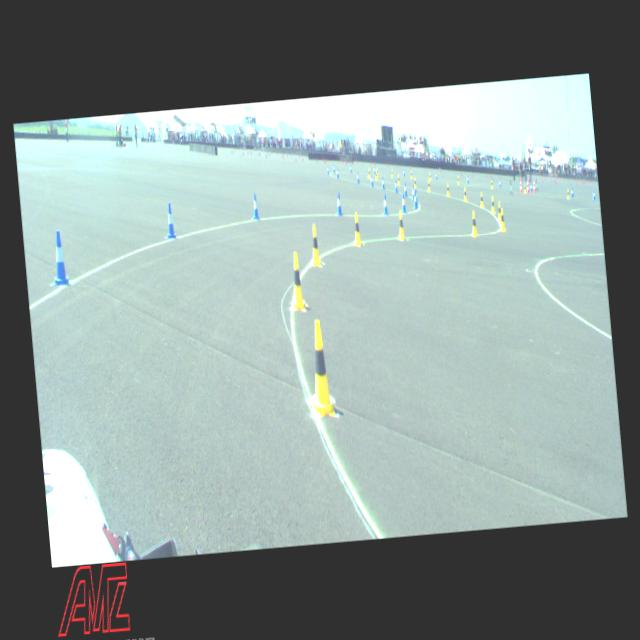blue_cone: (50, 230, 69, 286), (164, 202, 176, 238), (250, 192, 260, 219), (334, 191, 342, 216), (382, 193, 388, 214), (400, 193, 406, 213), (412, 191, 418, 209), (414, 188, 418, 205), (393, 179, 398, 192), (410, 184, 414, 200), (403, 181, 407, 196), (369, 173, 373, 186), (381, 176, 385, 189), (570, 187, 574, 197), (348, 164, 352, 172), (434, 172, 438, 180), (592, 190, 595, 200), (326, 165, 329, 175), (529, 182, 532, 192), (466, 174, 469, 183), (332, 164, 335, 172), (498, 180, 501, 188), (336, 168, 338, 178), (356, 172, 358, 182), (402, 168, 404, 176), (373, 166, 375, 173)
large_orange_cone: (526, 180, 530, 193), (532, 178, 535, 192), (519, 180, 522, 192)
yellow_cone: (305, 318, 335, 416), (286, 250, 306, 310), (306, 223, 322, 266), (350, 210, 361, 246), (396, 211, 404, 239), (469, 210, 477, 237), (498, 207, 506, 231), (490, 196, 496, 213), (496, 201, 501, 221), (478, 192, 484, 208), (462, 187, 467, 200), (446, 182, 450, 195), (426, 179, 429, 191), (396, 174, 399, 185), (566, 188, 569, 198), (390, 168, 393, 177), (409, 170, 412, 179), (428, 172, 431, 180), (456, 176, 459, 184), (490, 180, 493, 188), (414, 176, 416, 188), (523, 184, 526, 192), (368, 168, 370, 178), (374, 170, 376, 180), (376, 168, 378, 176)
